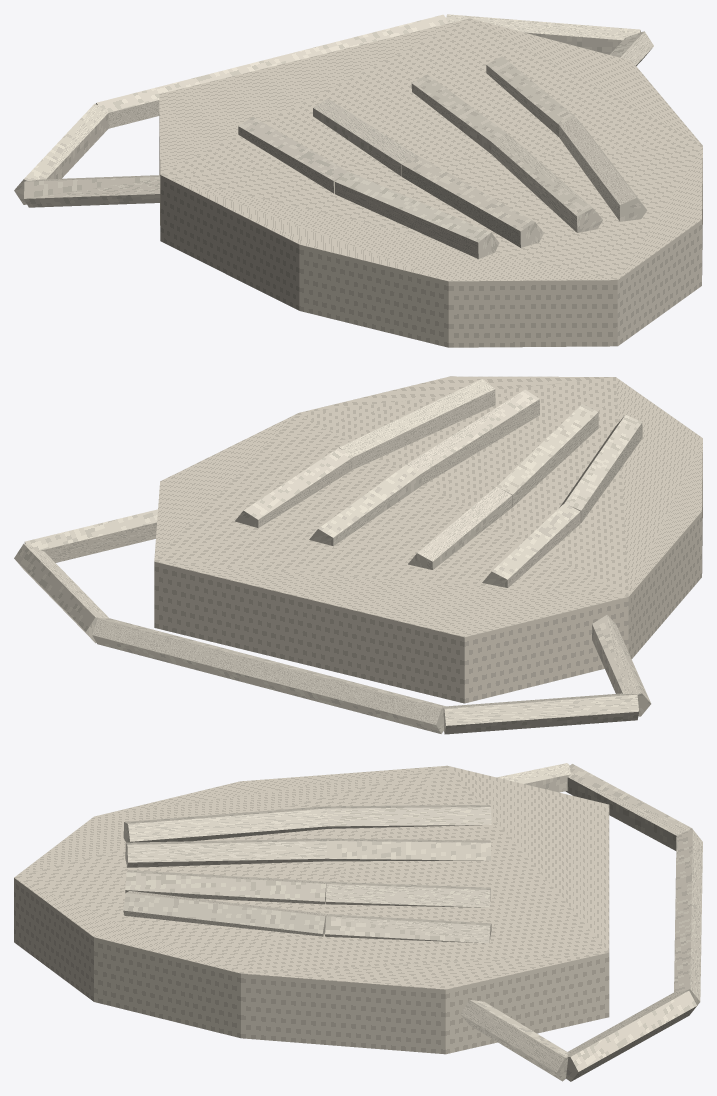
Rendered from santa_beard.glb.
3 renders of one model, top to bottom at view 1: azimuth 30°, elevation 25°; view 2: azimuth 150°, elevation 25°; view 3: azimuth 270°, elevation 25°, orthographic. The views are drawn at different scales.
Parts seen in each view (by area): view 1: block_sculpted beard, block_wavy white fibers 1 (×4), block_wavy white fibers 0 (×4), block_elastic beard strap 2, block_elastic beard strap 0, block_elastic beard strap 3, block_elastic beard strap 1, block_elastic beard strap 4; view 2: block_sculpted beard, block_wavy white fibers 1 (×4), block_wavy white fibers 0 (×4), block_elastic beard strap 2, block_elastic beard strap 1, block_elastic beard strap 4, block_elastic beard strap 3, block_elastic beard strap 0; view 3: block_sculpted beard, block_wavy white fibers 1 (×4), block_wavy white fibers 0 (×4), block_elastic beard strap 2, block_elastic beard strap 3, block_elastic beard strap 1, block_elastic beard strap 4, block_elastic beard strap 0.
Part boxes in pixels (<box>): block_sculpted beard: <box>159,18,702,347</box>; block_wavy white fibers 1 (×4): <box>335,117,647,258</box>; block_wavy white fibers 0 (×4): <box>238,56,574,193</box>; block_elastic beard strap 2: <box>96,14,447,128</box>; block_elastic beard strap 0: <box>24,175,160,207</box>; block_elastic beard strap 3: <box>446,14,640,54</box>; block_elastic beard strap 1: <box>14,103,108,204</box>; block_elastic beard strap 4: <box>610,31,653,65</box>; block_sculpted beard: <box>154,376,702,703</box>; block_wavy white fibers 1 (×4): <box>339,378,642,522</box>; block_wavy white fibers 0 (×4): <box>235,448,580,587</box>; block_elastic beard strap 2: <box>92,618,445,733</box>; block_elastic beard strap 1: <box>443,693,638,734</box>; block_elastic beard strap 4: <box>24,509,157,562</box>; block_elastic beard strap 3: <box>14,543,108,643</box>; block_elastic beard strap 0: <box>592,615,651,716</box>; block_sculpted beard: <box>14,765,609,1054</box>; block_wavy white fibers 1 (×4): <box>123,806,328,936</box>; block_wavy white fibers 0 (×4): <box>325,805,491,943</box>; block_elastic beard strap 2: <box>674,829,702,1005</box>; block_elastic beard strap 3: <box>566,990,696,1081</box>; block_elastic beard strap 1: <box>565,764,692,850</box>; block_elastic beard strap 4: <box>460,1000,568,1081</box>; block_elastic beard strap 0: <box>497,763,570,792</box>.
Bounding box in the file's own units: 0.1334 × 0.0178 × 0.1296.
1 material, 1 textured.
